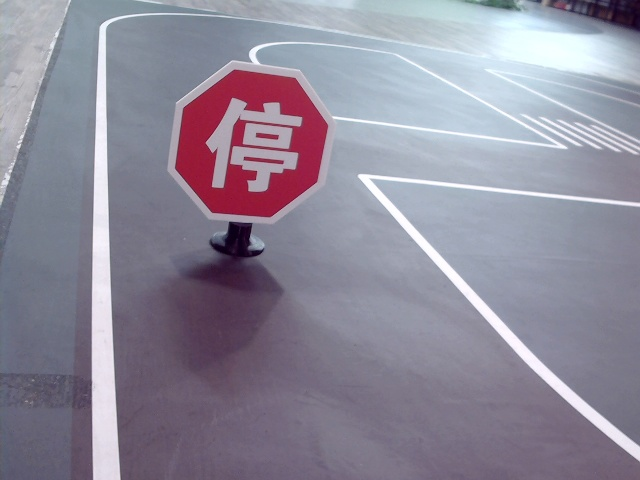stop: (204, 93, 300, 192)
